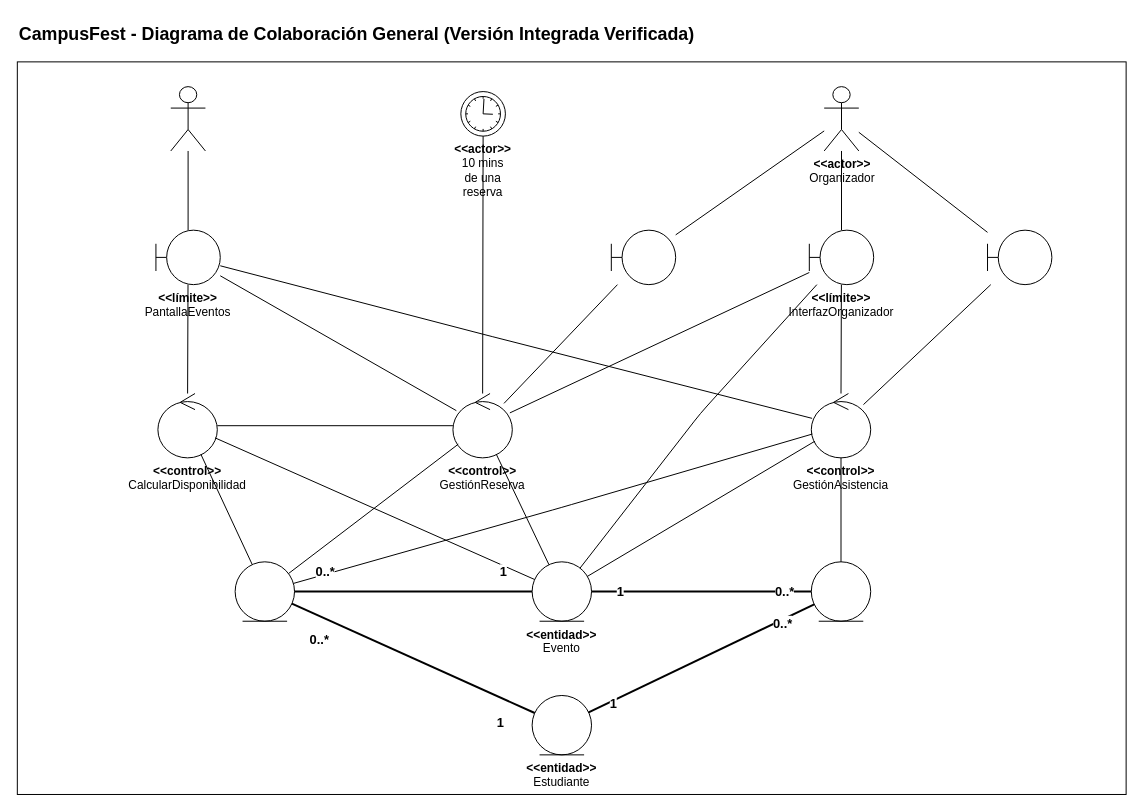
Some shapes in this 1143 by 812 pixel diagram are drawn without their labels. The shapes that lost their labels are listed below. From the top down, each one's centre as x and y in pixels, then its label:
the point at 187,118: <<actor>> Estudiante
the point at 643,257: <<límite>> ReporteReservas
the point at 1019,257: <<límite>> ReporteAsistencia
the point at 264,591: <<entidad>> Reserva
the point at 840,591: <<entidad>> Asistencia
